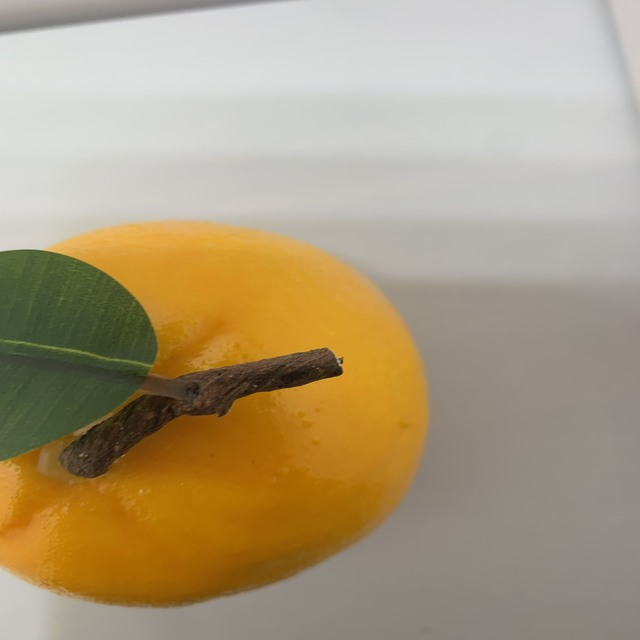Cam vang: (0, 210, 430, 611)
